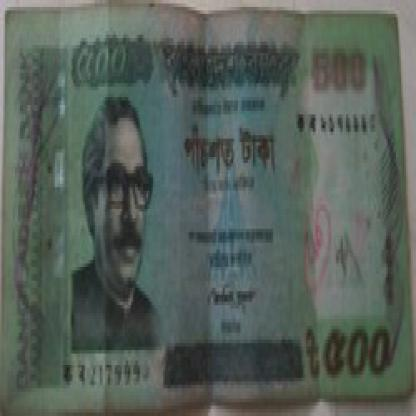500 taka: (167, 94, 292, 190), (45, 28, 153, 90)
